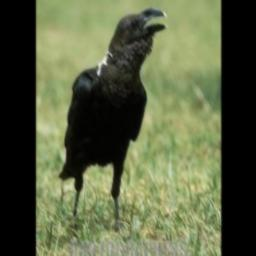Crow: (55, 1, 171, 238)
